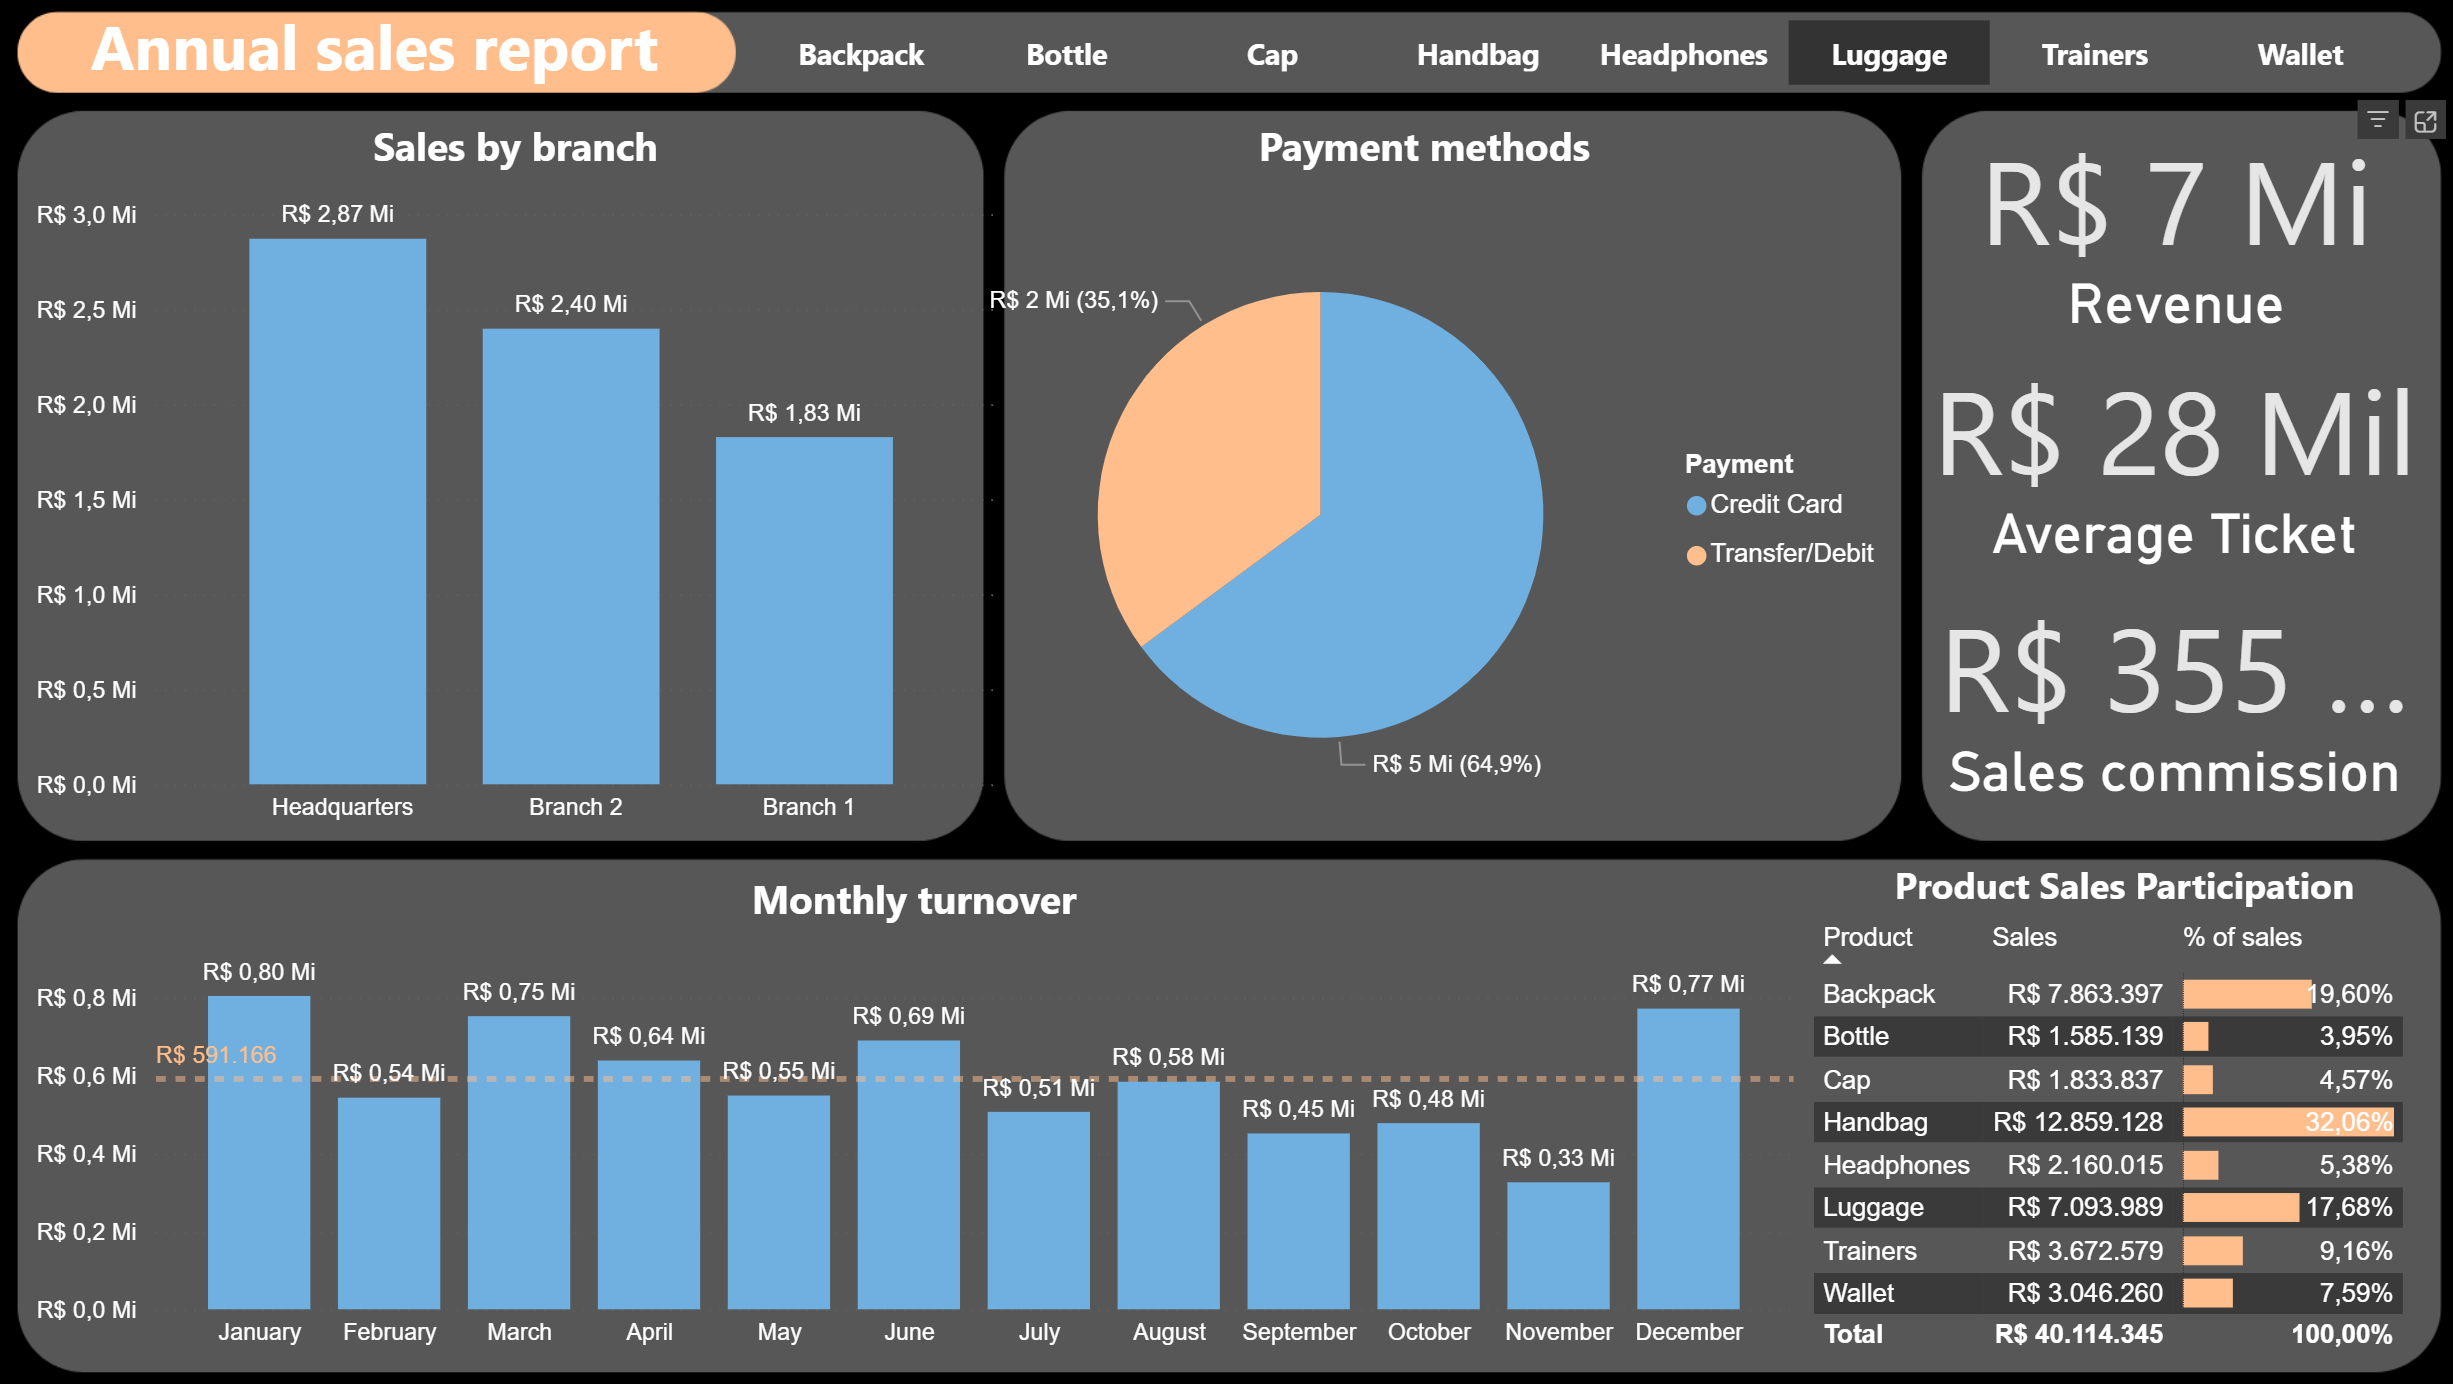

What the dashboard file says about the page in this screenshot:
{"tool":"powerbi","page":{"name":"Page 1","canvas":[1280,720],"ordinal":0},"visuals":[{"type":"card","fields":{"Values":["Sum(Vendas.Valor_Venda)"]},"box":[1000,54,259,131],"z":0},{"type":"card","fields":{"Values":["Avg(Vendas.Valor_Venda)"]},"box":[999,173,259,130],"z":1000},{"type":"clusteredColumnChart","title":"Monthly turnover","fields":{"Category":["Vendas.Data Pedido.Variation.Date Hierarchy.Month"],"Y":["Sum(Vendas.Valor_Venda)"]},"box":[23,452,914,253],"z":2000},{"type":"pieChart","title":"Payment methods","fields":{"Y":["Sum(Vendas.Valor_Venda)"],"Category":["Vendas.Pagamento"]},"box":[497,65,492,380],"z":3000},{"type":"clusteredColumnChart","title":"Sales by branch","fields":{"Y":["Sum(Vendas.Valor_Venda)"],"Category":["lojas.nome_loja"]},"box":[23,65,504,370],"z":4000},{"type":"tableEx","title":"Product Sales Participation","fields":{"Values":["Vendas.Produto","Sum(Vendas.Valor_Venda)","Divide(Sum(Vendas.Valor_Venda), ScopedEval(Sum(Vendas.Valor_Venda), []))"]},"box":[937,445,332,268],"z":5000},{"type":"slicer","fields":{"Values":["Vendas.Produto"]},"box":[375,7,894,47],"z":6000},{"type":"card","fields":{"Values":["Vendas.comissao"]},"box":[999,294,259,131],"z":7000},{"type":"textbox","box":[23,0,359,58],"z":8000}]}

Visuals, with their boxes in screenshot pixels (x1, y1, x2, y2), scaled from the page's 1280x720 canvas onto the 2453x1384 screenshot:
card - Sum(Vendas.Valor_Venda): left=1916, top=104, right=2413, bottom=356
card - Avg(Vendas.Valor_Venda): left=1914, top=333, right=2411, bottom=582
"Monthly turnover" clusteredColumnChart: left=44, top=869, right=1796, bottom=1355
"Payment methods" pieChart: left=952, top=125, right=1895, bottom=855
"Sales by branch" clusteredColumnChart: left=44, top=125, right=1010, bottom=836
"Product Sales Participation" tableEx: left=1796, top=855, right=2432, bottom=1371
slicer - Vendas.Produto: left=719, top=13, right=2432, bottom=104
card - Vendas.comissao: left=1914, top=565, right=2411, bottom=817
textbox: left=44, top=0, right=732, bottom=111
